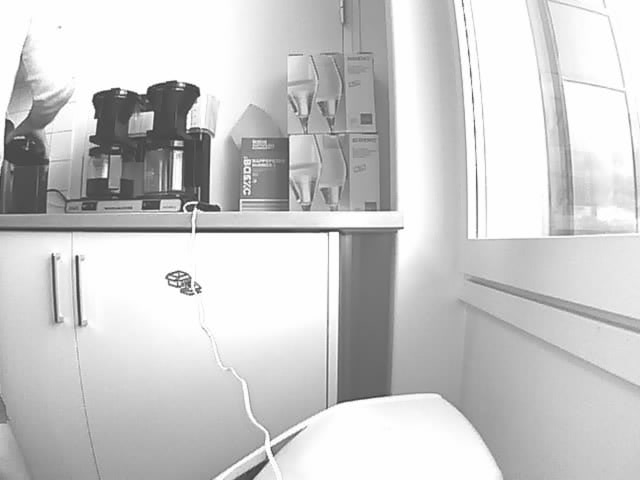empty coffee: (146, 140, 197, 197)
not empty coffee: (86, 146, 139, 199)
